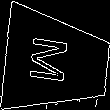M_E: (33, 36, 80, 88)
